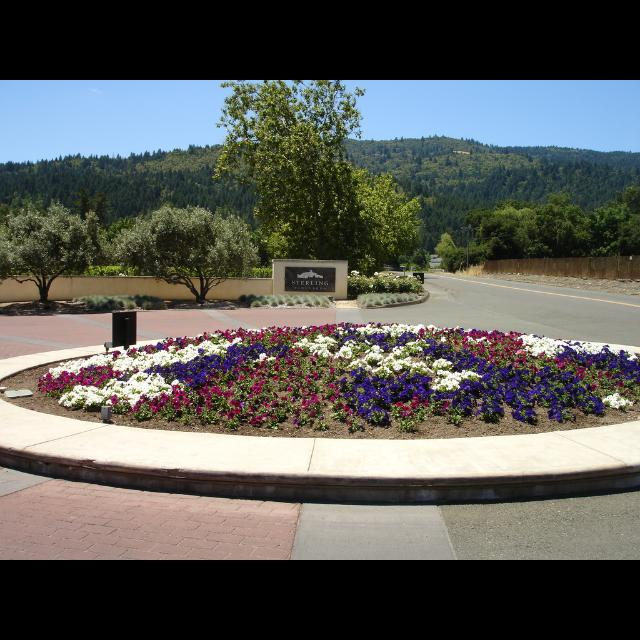Flower: (28, 318, 640, 428), (346, 270, 424, 288), (448, 374, 462, 386)
